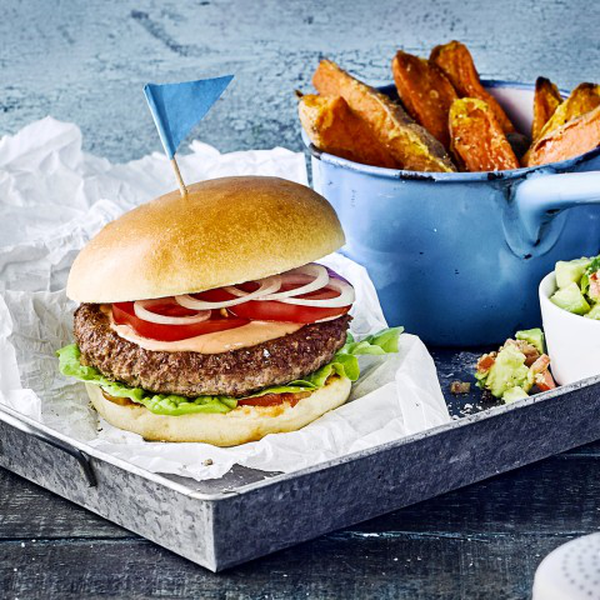burger_bun_bottom: (87, 379, 352, 445)
burger_bun_top: (65, 174, 347, 303)
burger_grilled: (73, 303, 349, 394)
